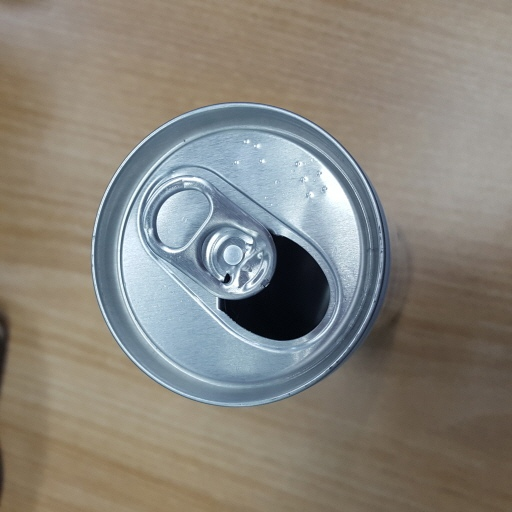Metal_0: (91, 100, 408, 411)
